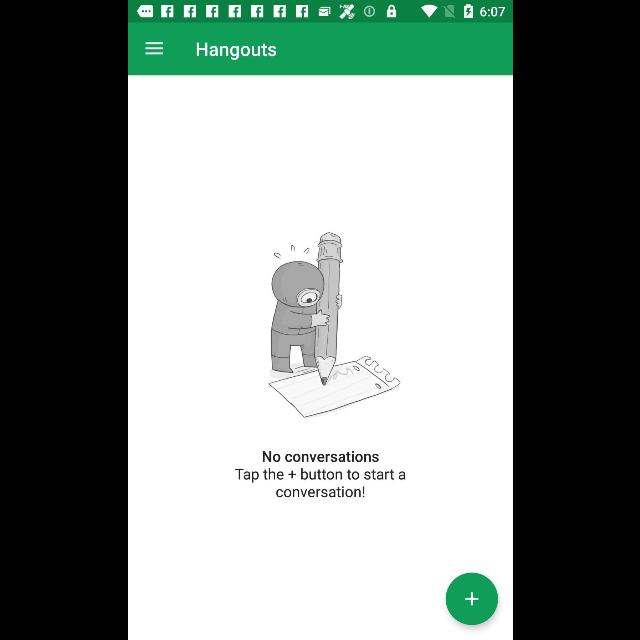button: (444, 573, 498, 625)
icon: (145, 42, 163, 56)
image: (268, 233, 400, 419)
text: (234, 468, 406, 498), (196, 42, 276, 60), (262, 450, 378, 462)
toolbar: (128, 23, 512, 75)
uppertaskbar: (128, 1, 512, 23)
